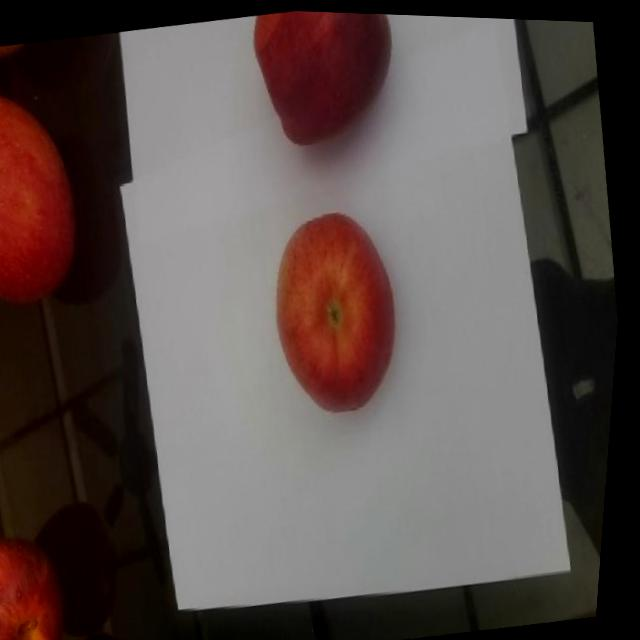Apple: (259, 198, 420, 421), (243, 7, 408, 152), (0, 81, 99, 314), (0, 528, 89, 640)
